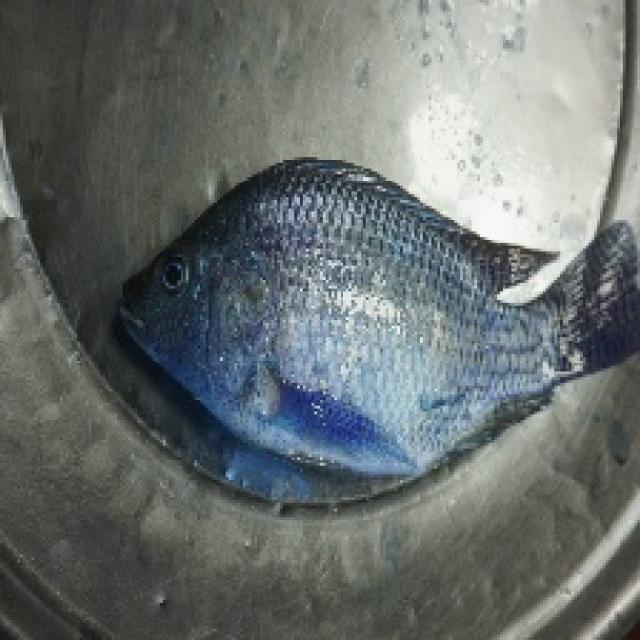Fresh: (77, 121, 640, 492)
